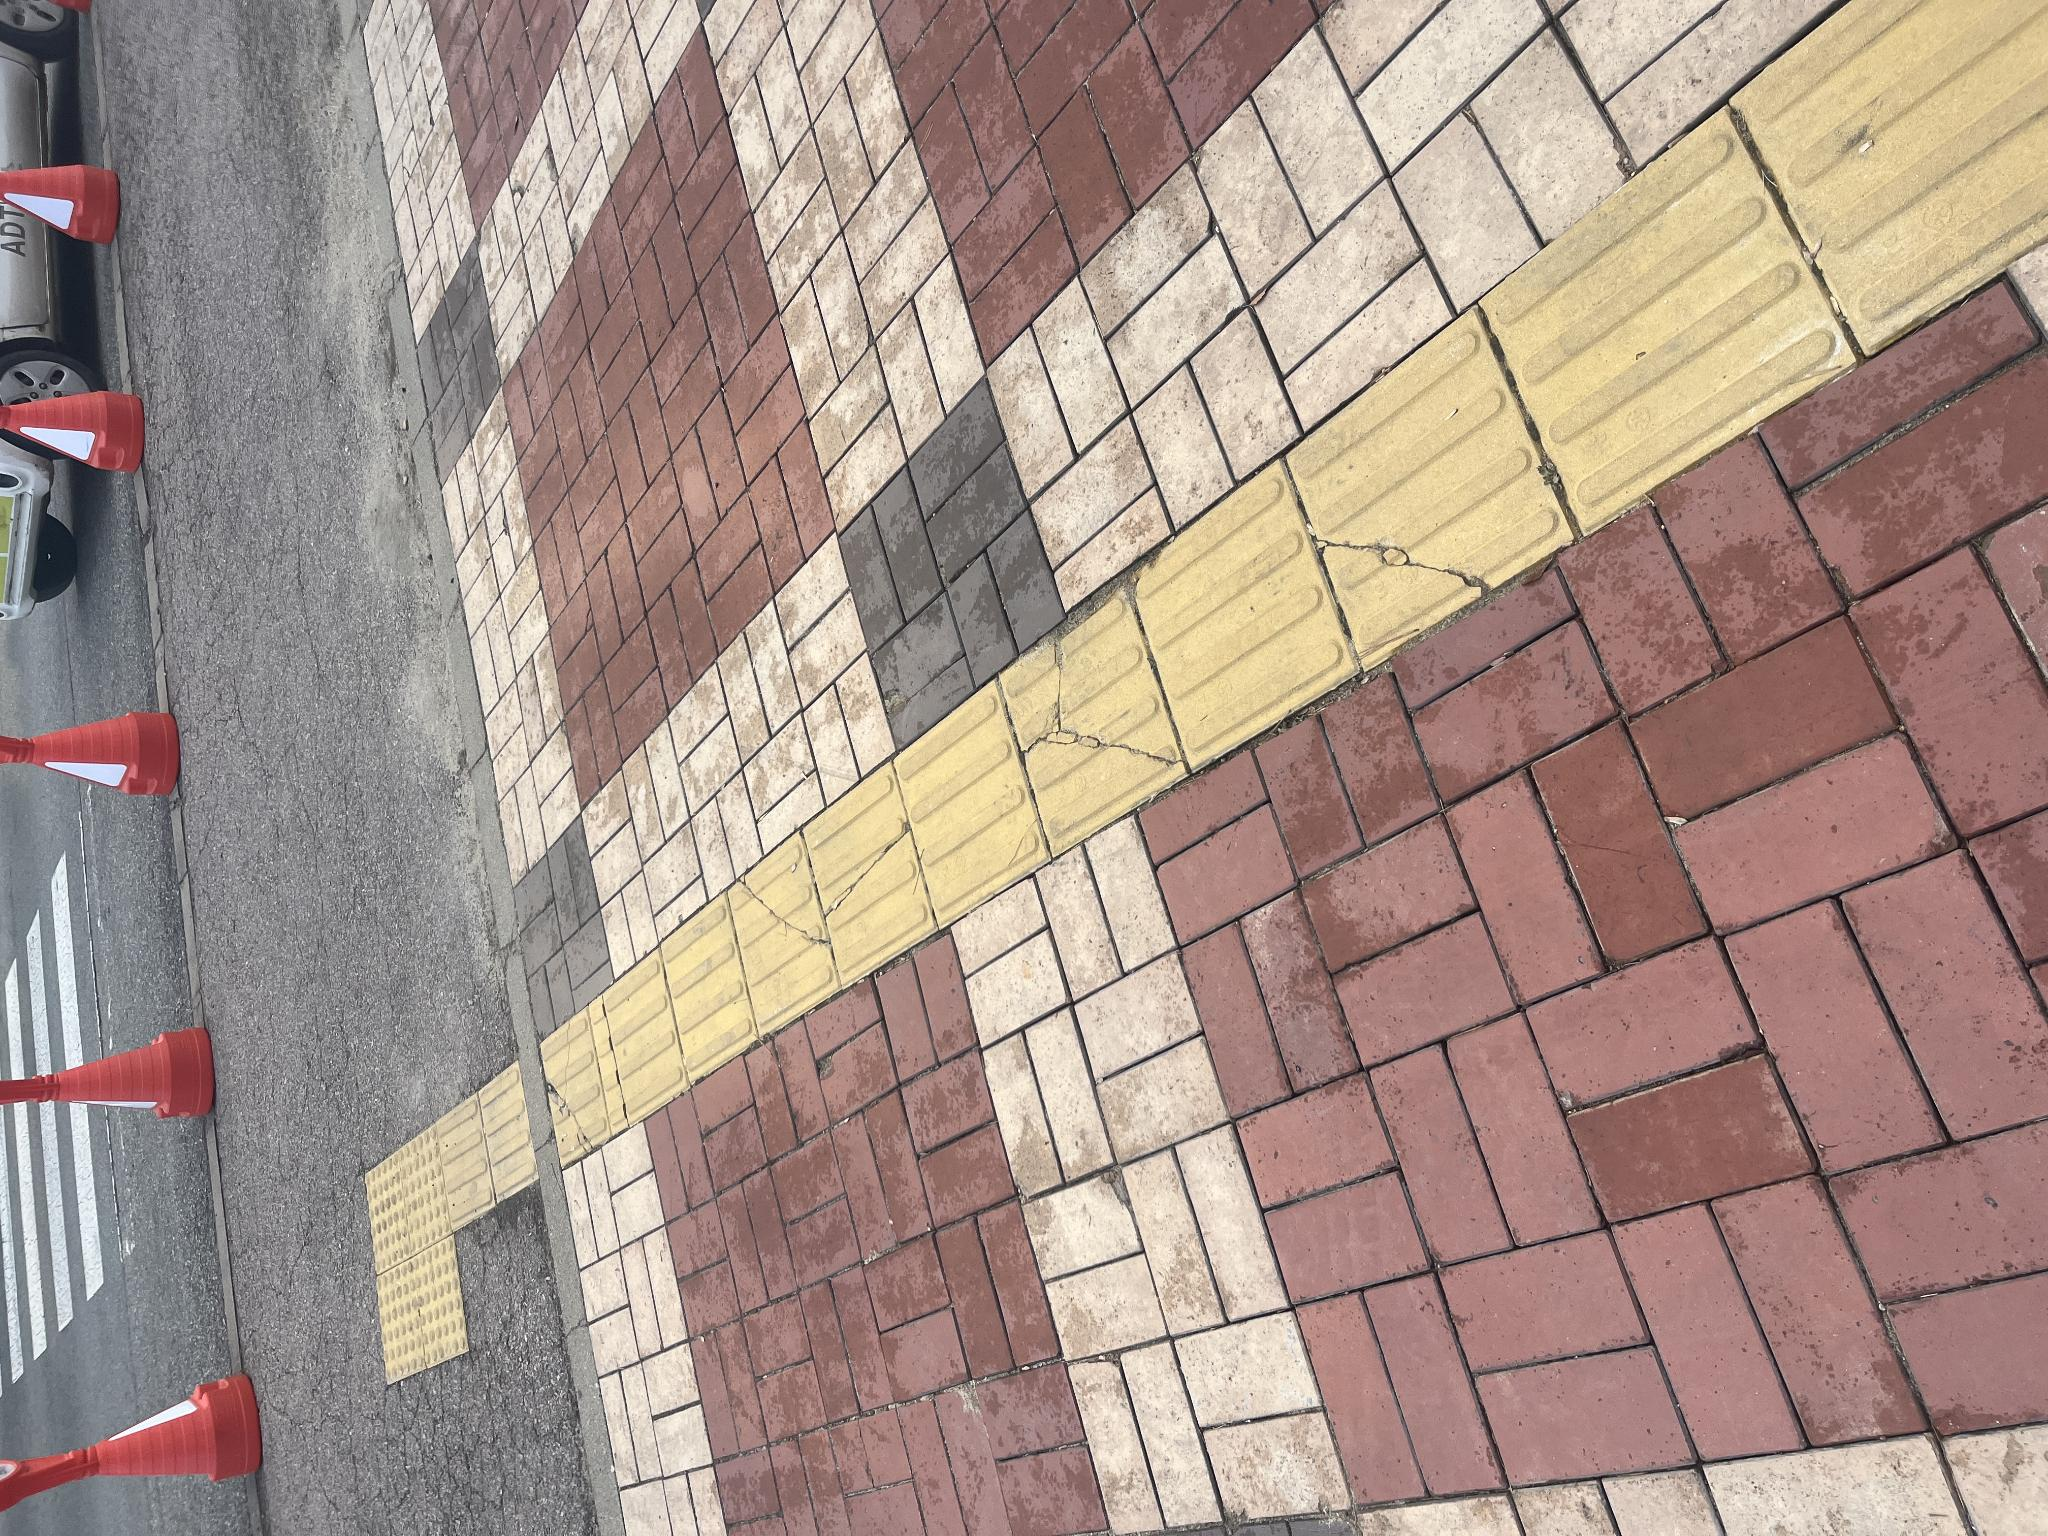Straight block broken: (869, 1289, 1226, 1536), (681, 1002, 955, 1184), (552, 802, 772, 933), (498, 728, 703, 841), (371, 539, 529, 610)
Straight block normal: (766, 1128, 1076, 1359), (613, 894, 853, 1046), (455, 660, 643, 757), (410, 602, 587, 686)
